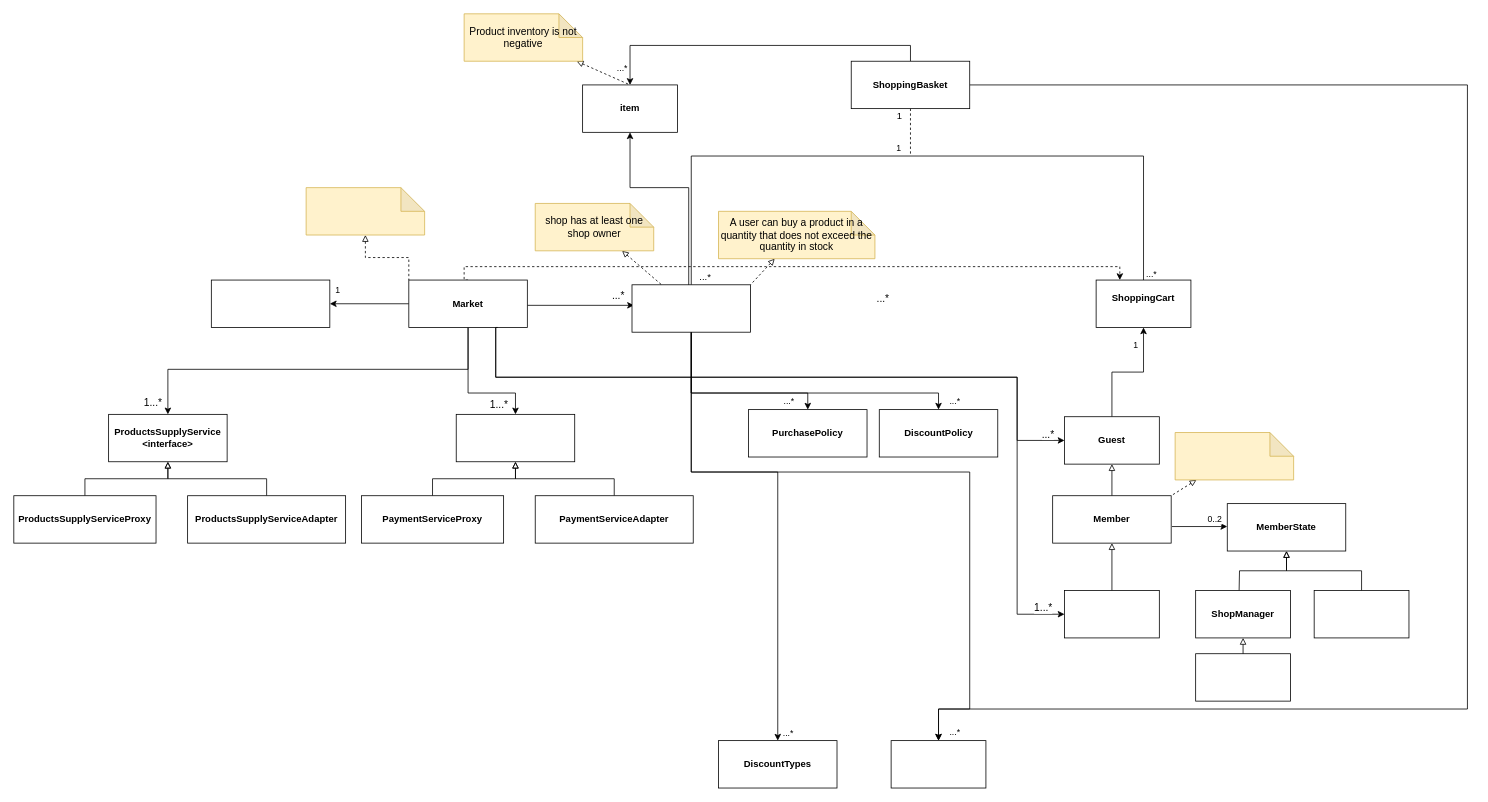
Image size: 1488x802. Some labels were removed from this diagram. Here are the shapes that lost their labels. From the top down, the box of each, then its label:
(305, 187, 425, 235): integrity rules
(211, 279, 330, 327): Security
(631, 284, 750, 332): Shop
(455, 414, 575, 462): Payment Service <interface>
(1174, 432, 1294, 480): unique name, enforced by user controller
(1064, 590, 1159, 638): SystemManager
(1313, 590, 1409, 638): Seller
(1195, 653, 1290, 701): ShopOwner
(890, 740, 986, 788): PurchaseTypes
